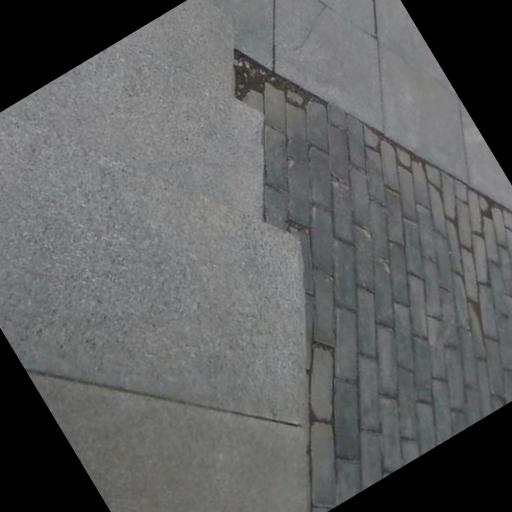stairs: (0, 0, 306, 423)
